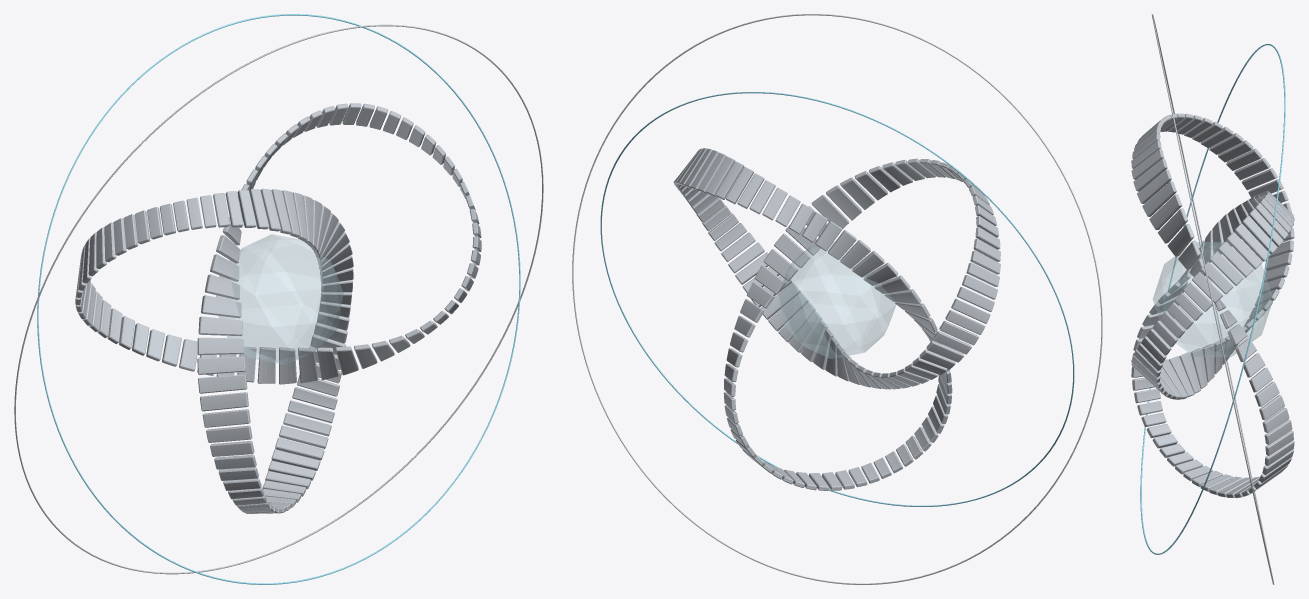
Rendered from frontier.glb.
3 views of the same model, side by side, from view 1: azimuth 30°, elevation 25°; view 2: azimuth 150°, elevation 25°; view 3: azimuth 270°, elevation 25° (orthographic). The views are drawn at different scales.
Visible parts, largest first — view 1: Ribbon, Core, RingB, RingA; view 2: Ribbon, Core, RingB, RingA; view 3: Ribbon, Core, RingB, RingA.
Part boxes in pixels (x1=…): Ribbon: x1=75, y1=103, x2=481, y2=513; Core: x1=216, y1=234, x2=343, y2=364; RingB: x1=14, y1=24, x2=543, y2=574; RingA: x1=37, y1=14, x2=520, y2=584; Ribbon: x1=673, y1=148, x2=1000, y2=490; Core: x1=778, y1=242, x2=896, y2=358; RingB: x1=572, y1=14, x2=1102, y2=584; RingA: x1=600, y1=92, x2=1074, y2=506; Ribbon: x1=1131, y1=113, x2=1294, y2=498; Core: x1=1153, y1=242, x2=1272, y2=356; RingB: x1=1151, y1=14, x2=1274, y2=584; RingA: x1=1140, y1=44, x2=1285, y2=554.
Size of the model in its own units: 5.39 by 5.32 by 1.51.
